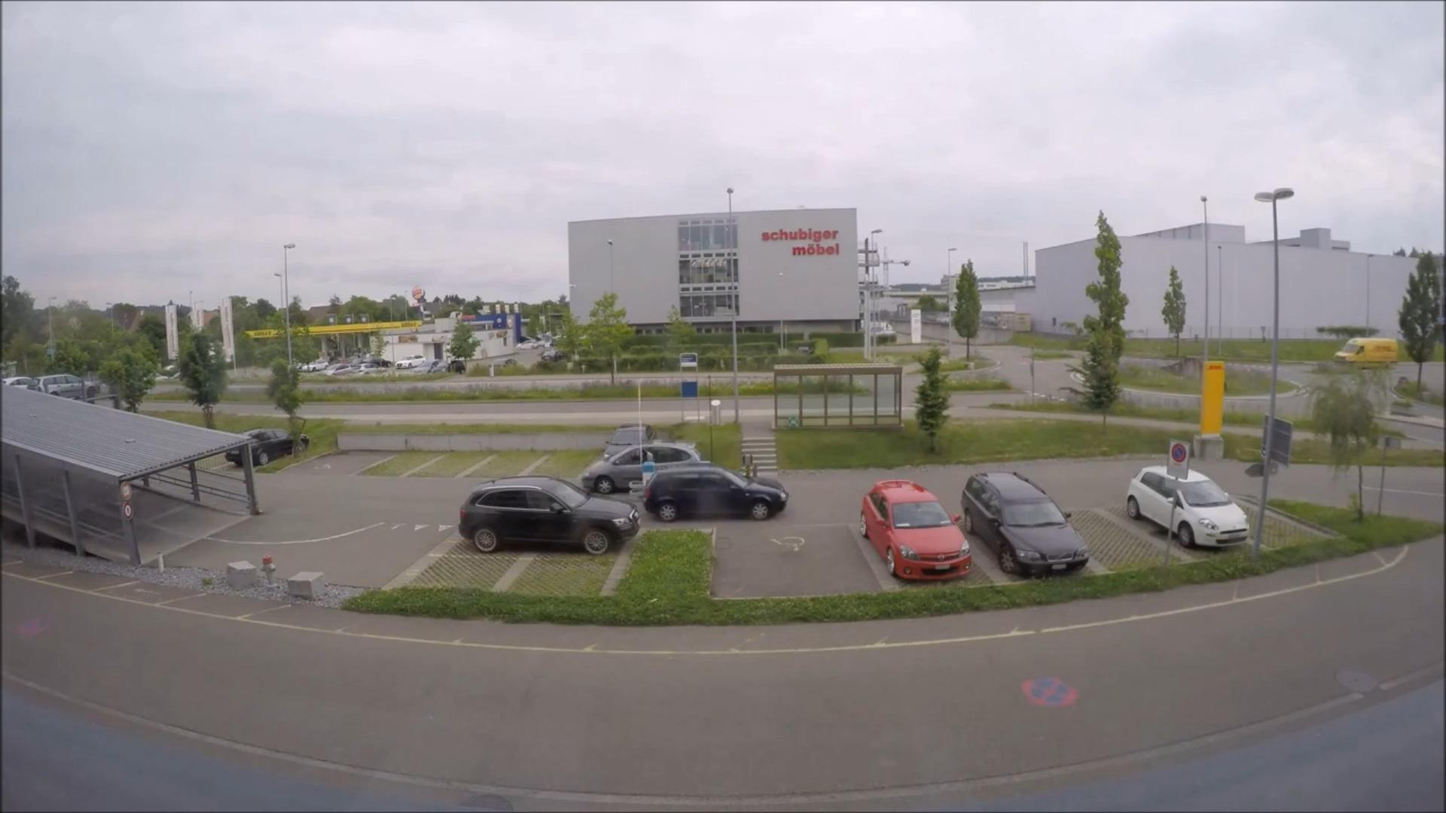occupied: (455, 475, 643, 556), (961, 469, 1092, 576), (1124, 464, 1250, 549), (860, 481, 967, 581), (582, 442, 706, 493), (224, 428, 308, 468), (32, 373, 93, 400), (356, 359, 393, 370), (3, 376, 34, 388), (297, 360, 328, 372), (541, 350, 567, 362)
